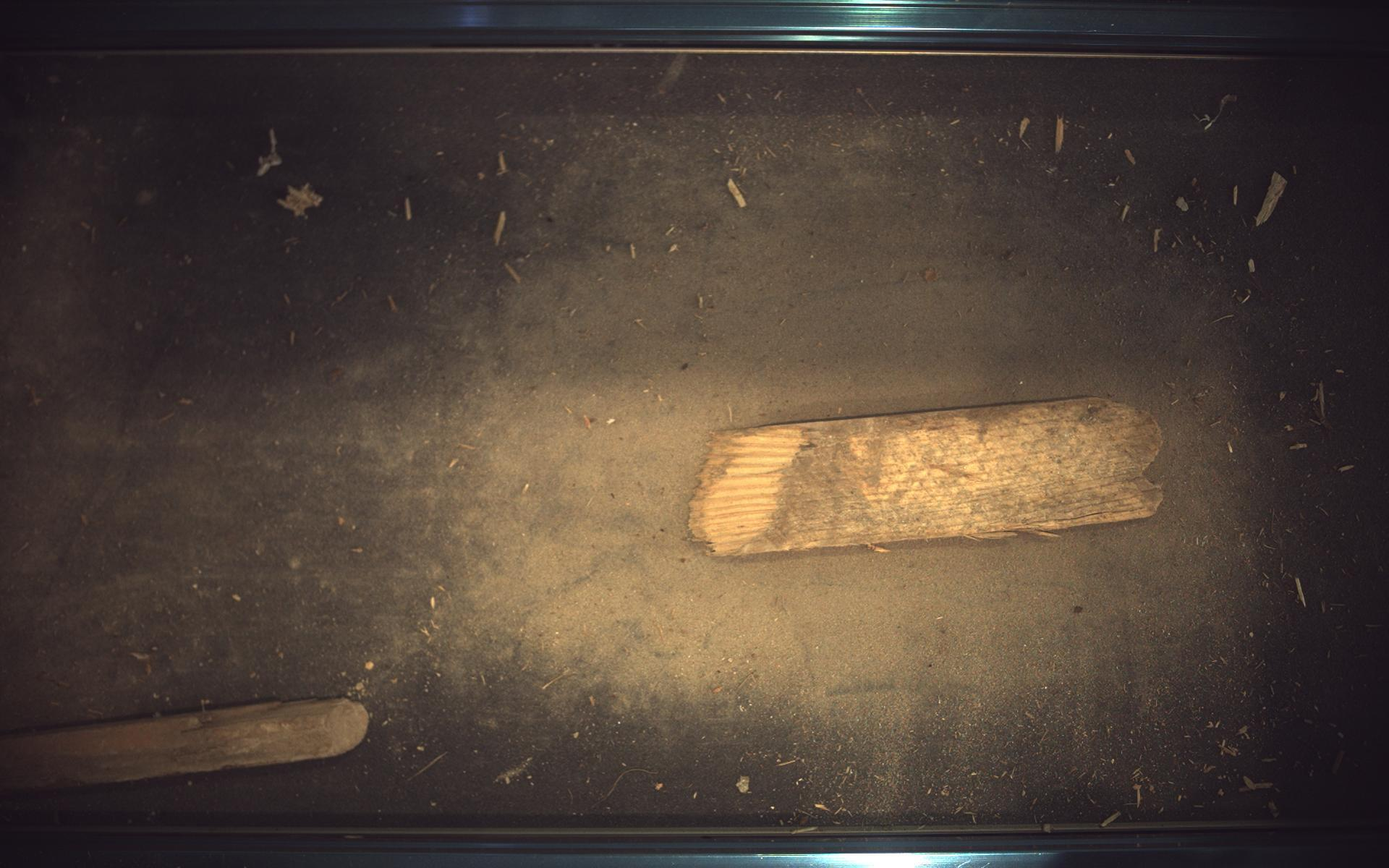wood: (690, 398, 1165, 556)
